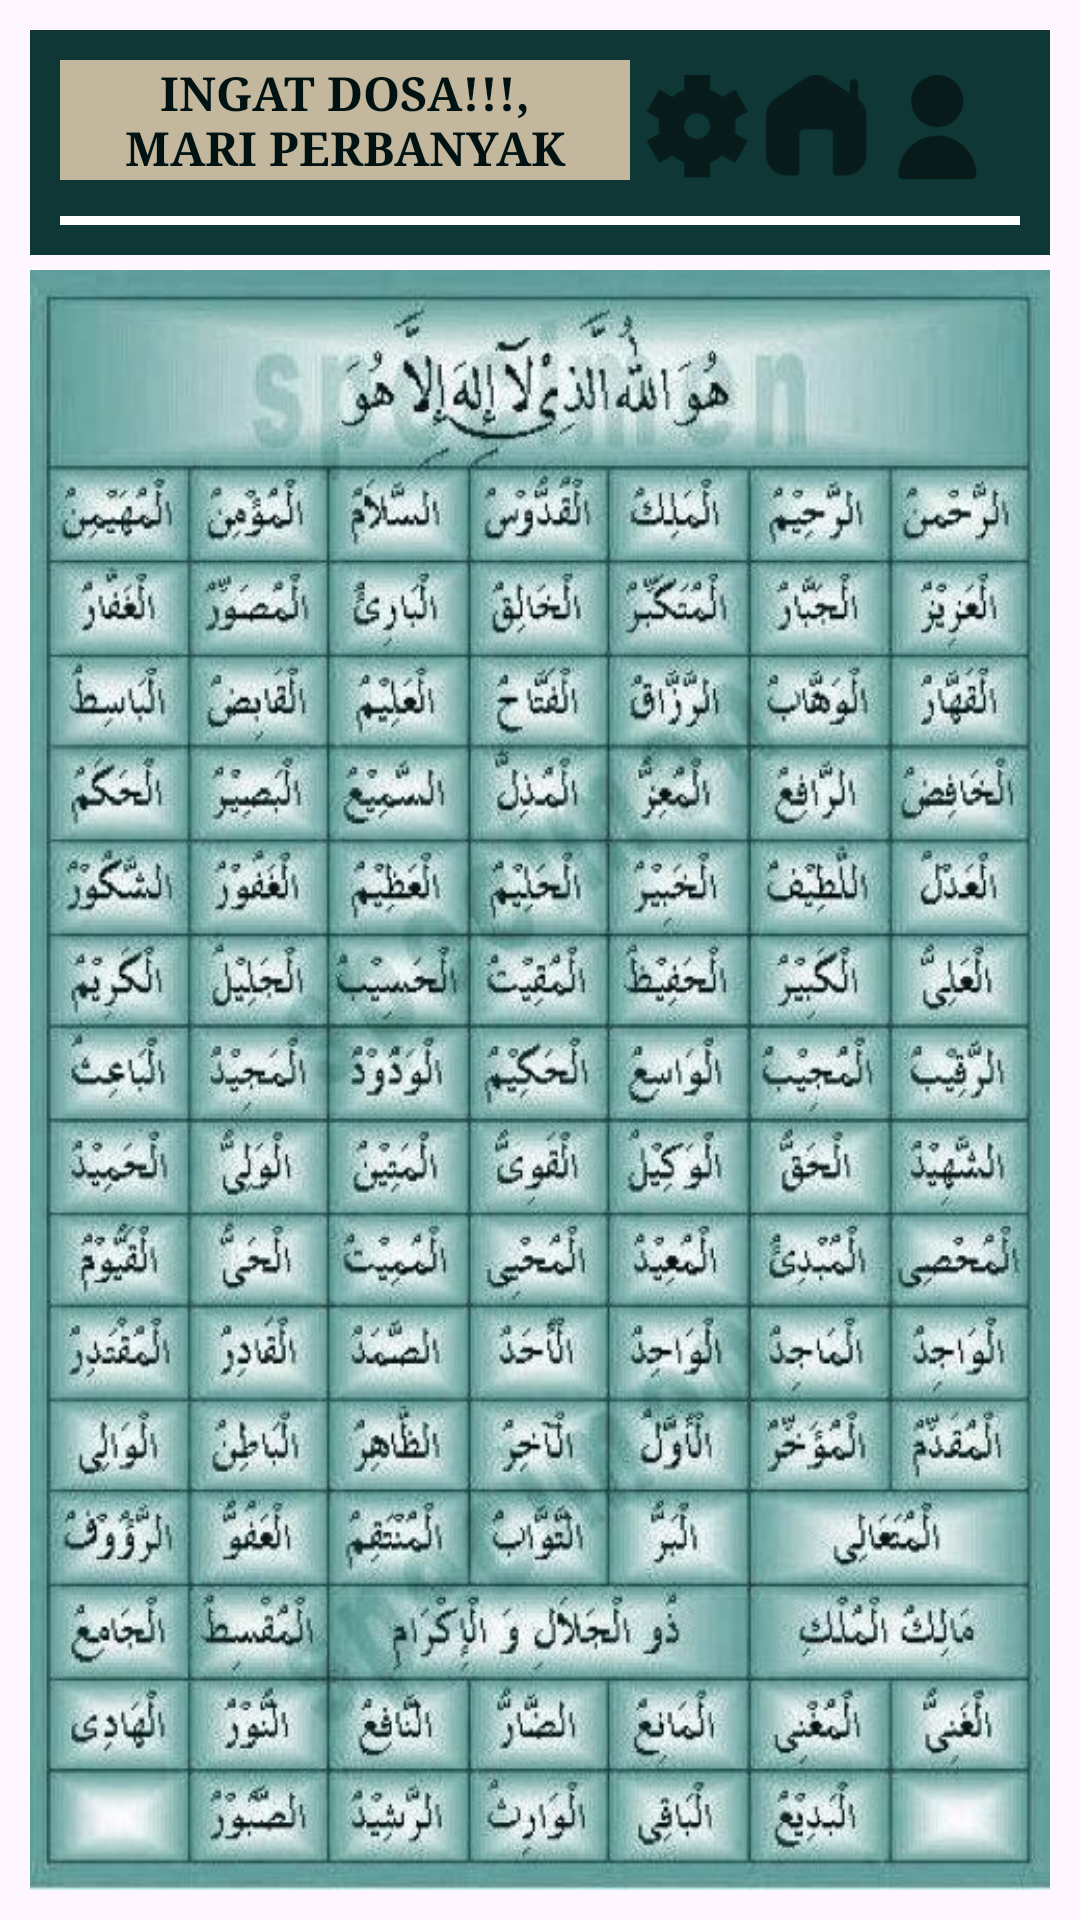

Icon bounding boxes for this 1080 x 1920 phone screenshot, format Rect(x1, y1, x2, y2):
Home: Rect(766, 75, 866, 175)
Pengaturan: Rect(648, 75, 747, 177)
User Profile: Rect(899, 75, 976, 179)
